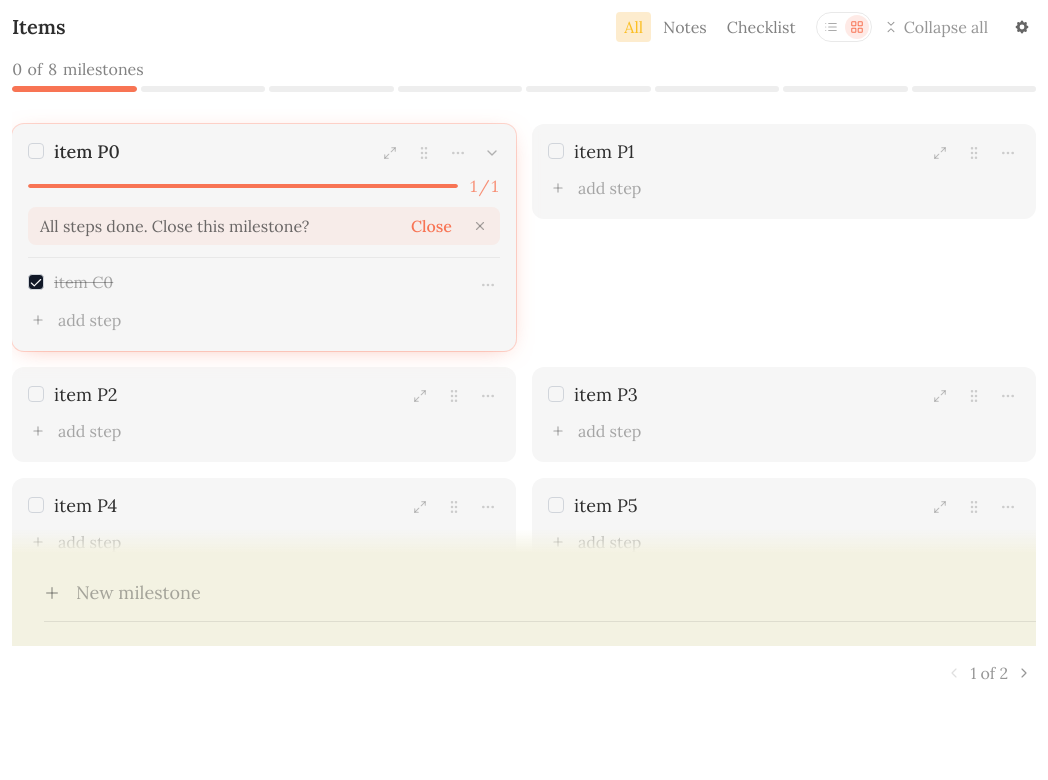
Test: Todo list / blocks toggle › should come back to page one when the view changes under a paged list
Expected: the text "item P0" is shown, 54,140 -> 120,163
Click the button named "Next page": click(1024, 673) 1016,665 -> 1032,681
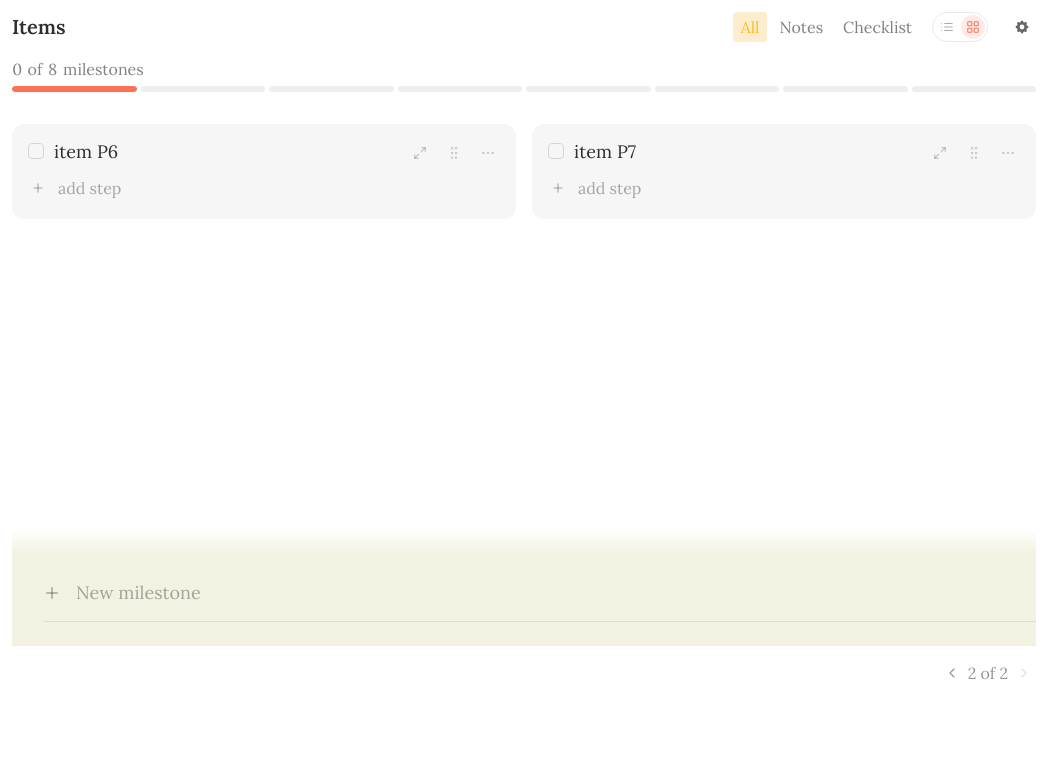
Result: the text with test id "page-counter" reads "2 of 2" at 968,662 -> 1008,684
Click the button named "Checklist": click(947, 27) 935,15 -> 959,39
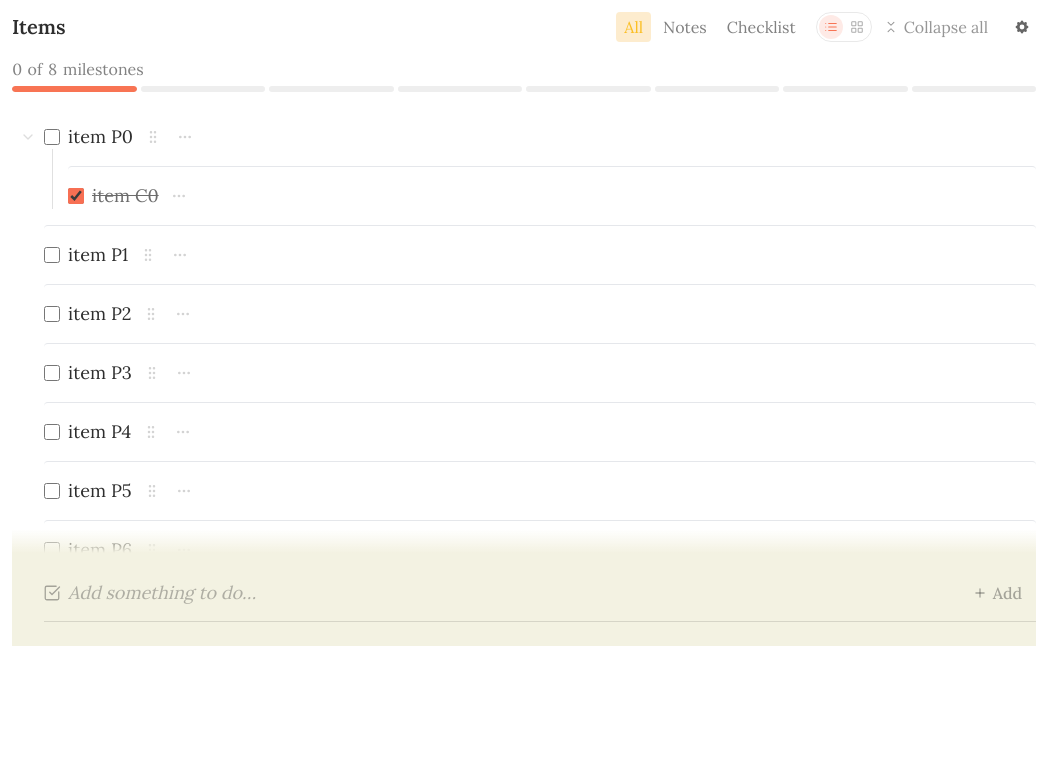
Click the button named "Milestones": click(857, 27) 845,15 -> 869,39
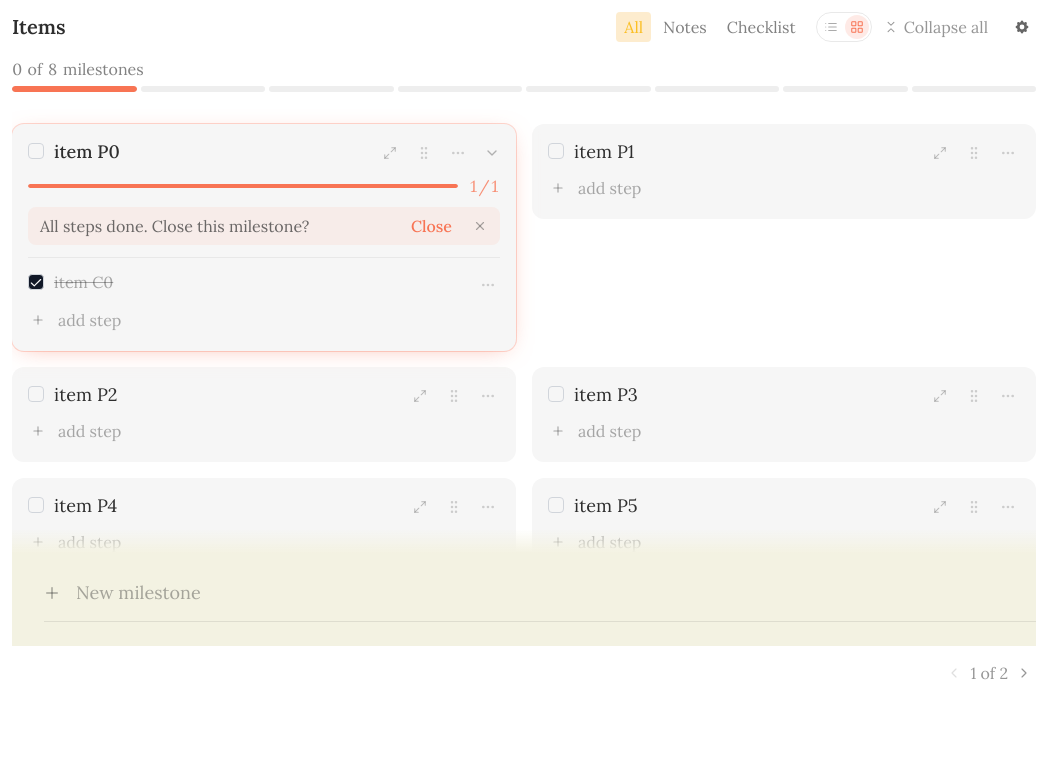
Result: the text "item P0" is shown at 54,140 -> 120,163
Result: the text with test id "page-counter" reads "1 of 2" at 970,662 -> 1008,684
